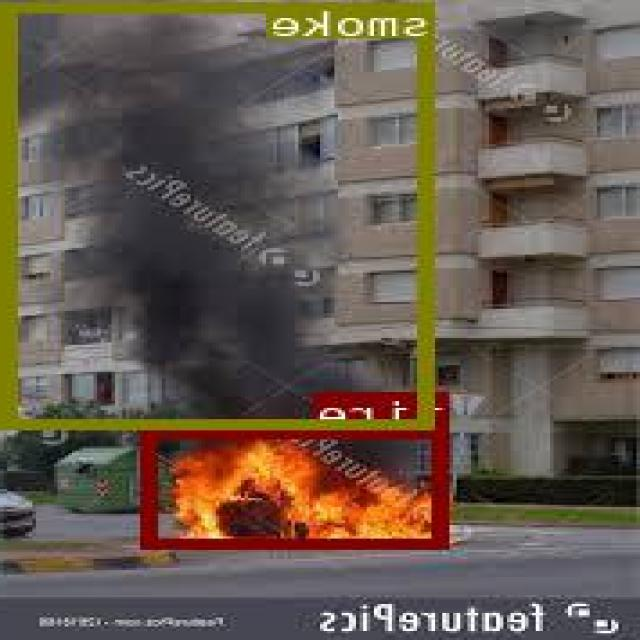fire: (144, 426, 452, 546)
smoke: (7, 2, 438, 426)
